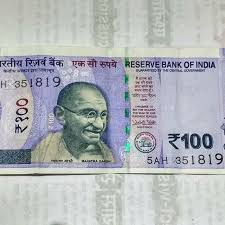hundred: (5, 74, 216, 154)
